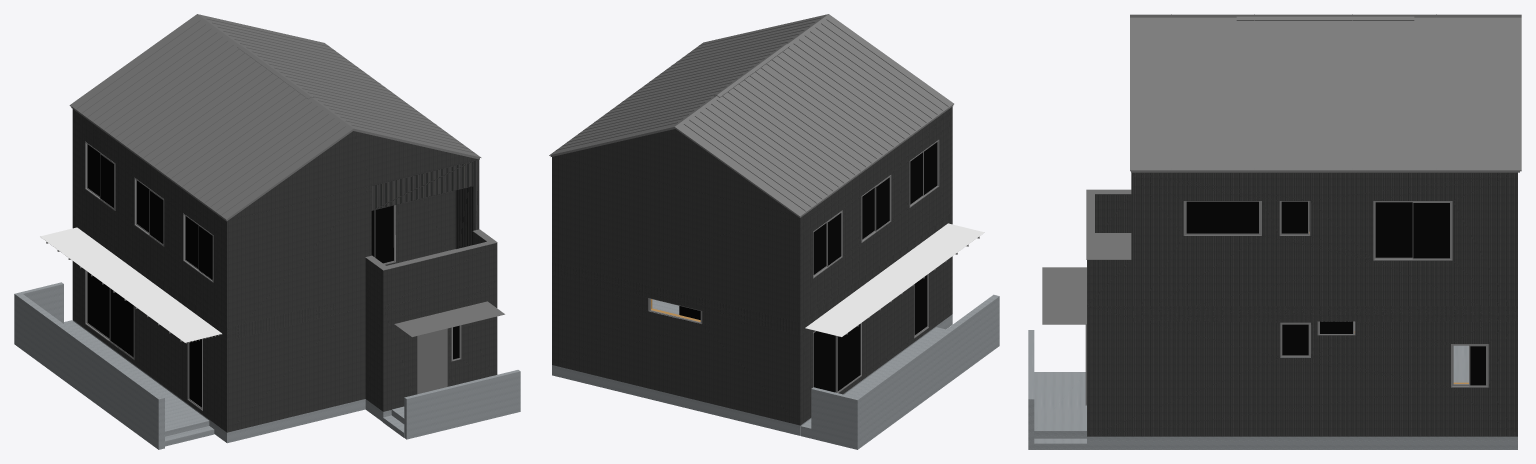
File: glb.glb
3 views of the same model, side by side, from view 1: azimuth 30°, elevation 25°; view 2: azimuth 150°, elevation 25°; view 3: azimuth 270°, elevation 25° (orthographic). The views are drawn at different scales.
Parts seen in each view (by area): view 1: オブジェクト_936, オブジェクト_1219, オブジェクト_1216, オブジェクト_1220, オブジェクト_925, オブジェクト_1213, オブジェクト_1223, オブジェクト_1215, オブジェクト_48, オブジェクト_283, オブジェクト_879, オブジェクト_1225 (+22 smaller); view 2: オブジェクト_936, オブジェクト_1221, オブジェクト_1214, オブジェクト_1220, オブジェクト_925, オブジェクト_1222, オブジェクト_48, オブジェクト_1213, オブジェクト_283, オブジェクト_36, オブジェクト_49, オブジェクト_75 (+11 smaller); view 3: オブジェクト_925, オブジェクト_1212, オブジェクト_1217, オブジェクト_41, オブジェクト_889, オブジェクト_653, オブジェクト_58, オブジェクト_53, オブジェクト_1226, オブジェクト_52, オブジェクト_1230, オブジェクト_936 (+10 smaller).
Boxes of the visible parts, box(x1,y1,x2,y2) form: オブジェクト_936: box(70, 14, 353, 219); オブジェクト_1219: box(227, 186, 371, 337); オブジェクト_1216: box(227, 304, 365, 432); オブジェクト_1220: box(72, 109, 226, 338); オブジェクト_925: box(197, 14, 480, 157); オブジェクト_1213: box(72, 215, 226, 432); オブジェクト_1223: box(228, 131, 478, 220); オブジェクト_1215: box(383, 280, 497, 411); オブジェクト_48: box(14, 294, 158, 449); オブジェクト_283: box(40, 227, 221, 342); オブジェクト_879: box(406, 371, 520, 439); オブジェクト_1225: box(383, 243, 497, 307); オブジェクト_936: box(675, 14, 953, 216); オブジェクト_1221: box(552, 156, 800, 334); オブジェクト_1214: box(552, 262, 800, 425); オブジェクト_1220: box(800, 107, 952, 334); オブジェクト_925: box(550, 14, 828, 154); オブジェクト_1222: box(553, 129, 797, 216); オブジェクト_48: box(857, 296, 999, 449); オブジェクト_1213: box(800, 212, 952, 425); オブジェクト_283: box(805, 223, 984, 336); オブジェクト_36: box(552, 365, 800, 435); オブジェクト_49: box(811, 389, 857, 449); オブジェクト_75: box(813, 331, 835, 392); オブジェクト_925: box(1130, 17, 1521, 170); オブジェクト_1212: box(1087, 306, 1517, 436); オブジェクト_1217: box(1131, 172, 1517, 321); オブジェクト_41: box(1087, 436, 1517, 449); オブジェクト_889: box(1034, 372, 1086, 430); オブジェクト_653: box(1042, 267, 1086, 324); オブジェクト_58: box(1186, 201, 1258, 233); オブジェクト_53: box(1375, 202, 1412, 257); オブジェクト_1226: box(1087, 260, 1131, 306); オブジェクト_52: box(1413, 203, 1449, 258); オブジェクト_1230: box(1095, 194, 1131, 232); オブジェクト_936: box(1130, 14, 1521, 17).
Bounding box in the file's own units: 0.0833 × 0.0727 × 0.0912.
10 materials, 3 textured.
